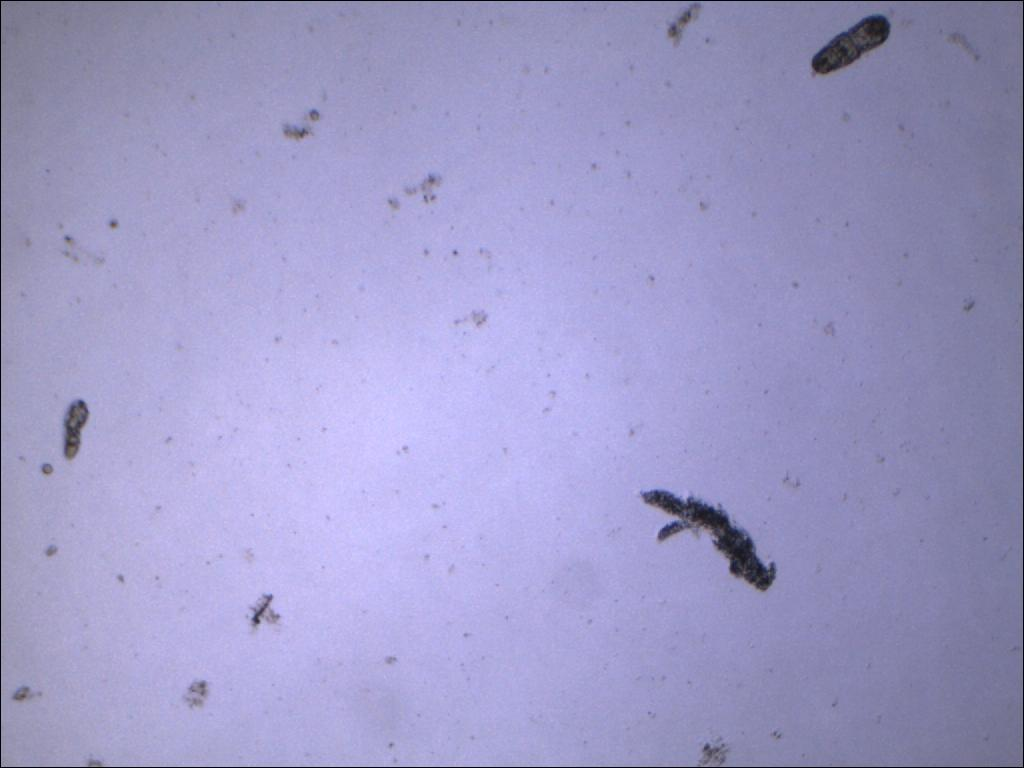amoeba: (629, 479, 783, 596)
